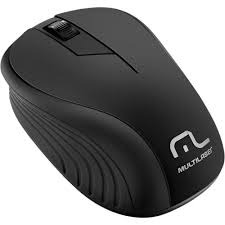mouse: (3, 3, 225, 220)
